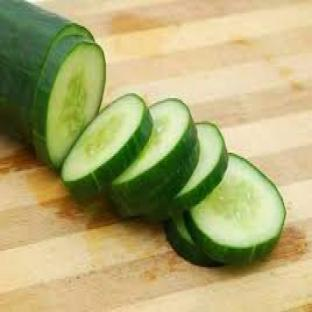Cucumber: (111, 98, 199, 219), (187, 155, 285, 263), (32, 37, 105, 167), (62, 95, 152, 199), (172, 123, 228, 214), (165, 215, 221, 267)
